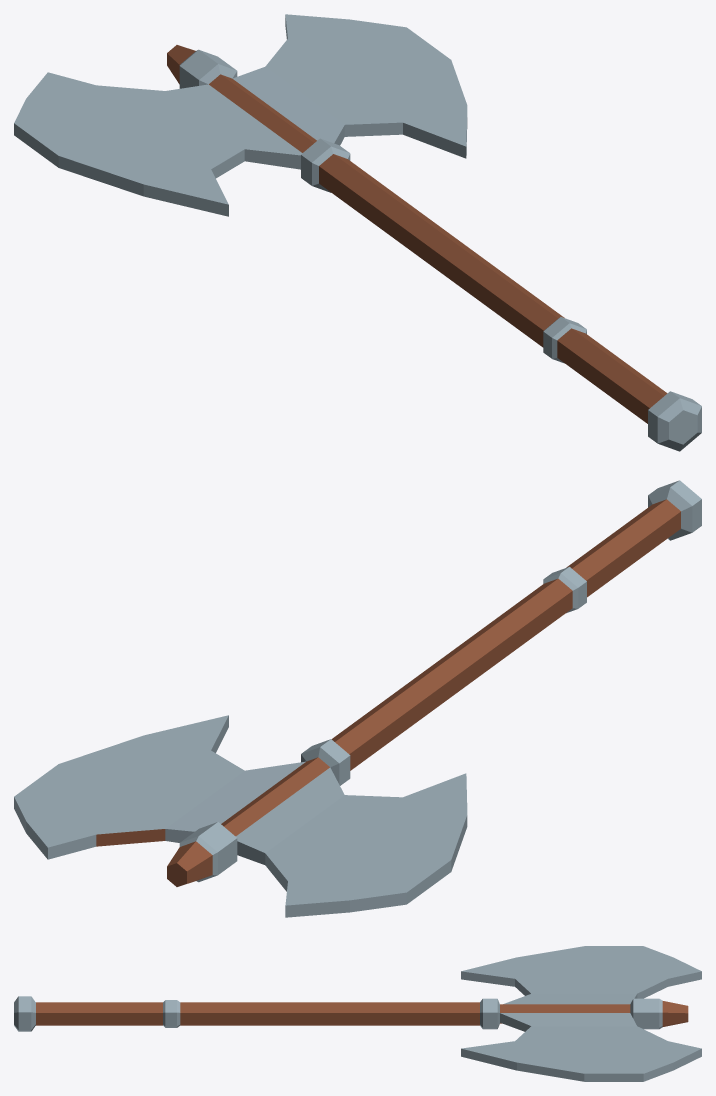
File: axe.glb
3 renders of one model, top to bottom at view 1: azimuth 30°, elevation 25°; view 2: azimuth 150°, elevation 25°; view 3: azimuth 270°, elevation 25°, orthographic. The views are drawn at different scales.
Visible parts, largest first — view 1: Axe; view 2: Axe; view 3: Axe.
Part boxes in pixels (<box>): Axe: <box>14,14,701,451</box>; Axe: <box>14,480,701,917</box>; Axe: <box>14,946,701,1081</box>.
Size of the model in its own units: 0.5156 by 0.0671 by 1.17.
1 material, 1 textured.
